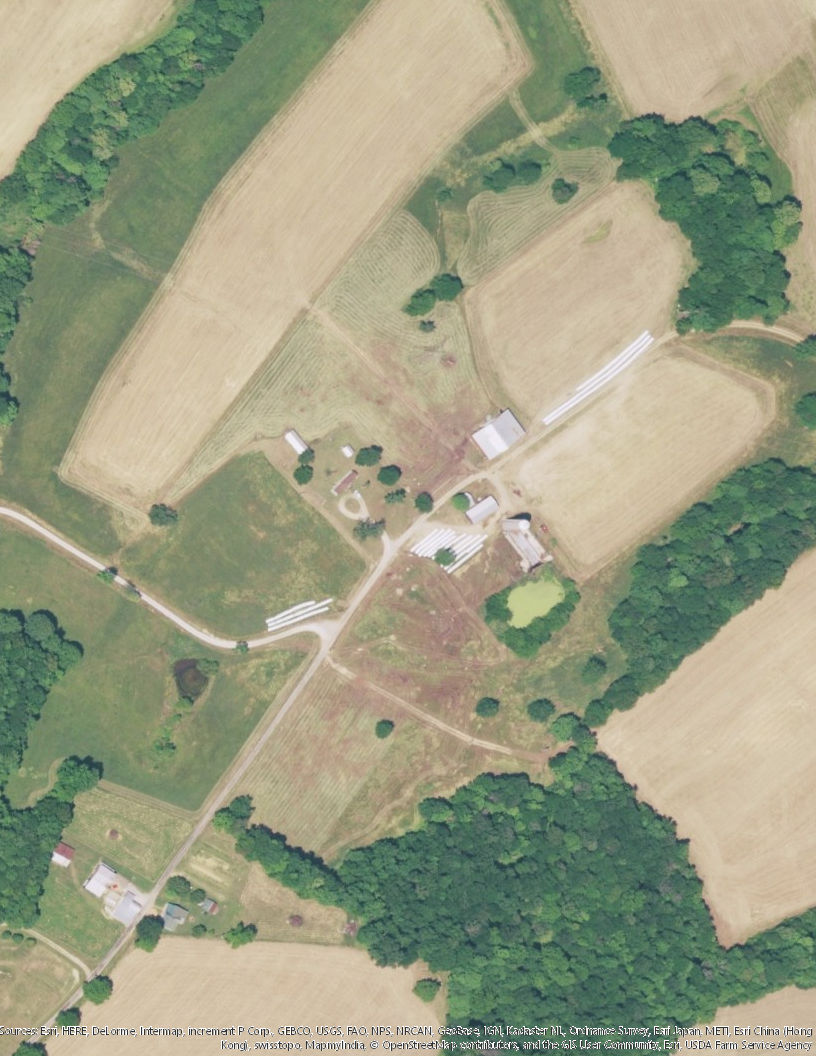cafo: (468, 407, 528, 464)
